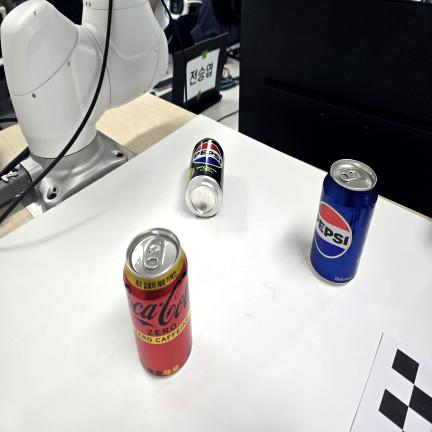can_coke_decaf: (121, 228, 194, 377)
can_pepsi: (309, 157, 379, 284)
can_pepsi_zero: (184, 139, 225, 217)
